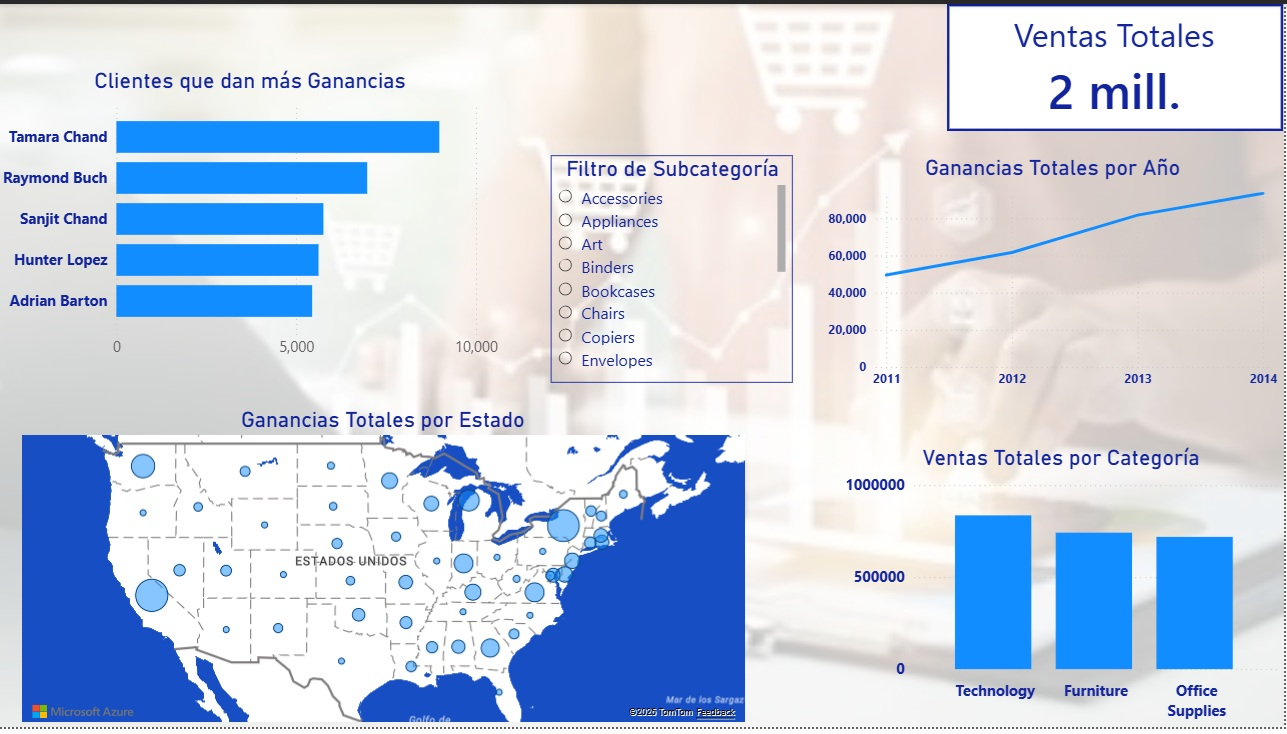

This screenshot's page, from the dashboard's own definition file:
{"tool":"powerbi","page":{"name":"EN USA","canvas":[1280,720],"ordinal":1},"visuals":[{"type":"cardVisual","fields":{"Data":["Sum(SuperStoreOrders.sales)"]},"box":[945.1,0,334.6,126.4],"z":0},{"type":"clusteredColumnChart","title":"Ventas Totales por Categoría","fields":{"Category":["SuperStoreOrders.category"],"Y":["Sum(SuperStoreOrders.sales)"]},"box":[838.8,439,440.8,282],"z":1000},{"type":"lineChart","title":"Ganancias Totales por Año","fields":{"Category":["SuperStoreOrders.order_date.Variación.Jerarquía de fechas.Año","SuperStoreOrders.order_date.Variación.Jerarquía de fechas.Trimestre","SuperStoreOrders.order_date.Variación.Jerarquía de fechas.Mes","SuperStoreOrders.order_date.Variación.Jerarquía de fechas.Día"],"Y":["Sum(SuperStoreOrders.profit)"]},"box":[822.8,149.9,456.9,240.9],"z":2000},{"type":"azureMap","title":"Ganancias Totales por Estado","fields":{"Size":["Sum(SuperStoreOrders.profit)"],"Category":["SuperStoreOrders.state"]},"box":[19.7,400.2,728.7,319.5],"z":3000},{"type":"clusteredBarChart","title":"Clientes que dan más Ganancias ","fields":{"Category":["SuperStoreOrders.customer_name"],"Y":["Sum(SuperStoreOrders.profit)"]},"box":[0,63.4,503.8,298.6],"z":4000},{"type":"listSlicer","title":"Filtro de Subcategoría","fields":{"Values":["SuperStoreOrders.sub_category"]},"box":[551.5,149.9,240.9,226.7],"z":5000}]}

Visuals, with their boxes in screenshot pixels (x1, y1, x2, y2), scaled from the page's 1280x720 canvas onto the 1287x734 screenshot:
cardVisual - Sum(SuperStoreOrders.sales): bbox=(950, 0, 1286, 129)
"Ventas Totales por Categoría" clusteredColumnChart: bbox=(843, 448, 1286, 733)
"Ganancias Totales por Año" lineChart: bbox=(827, 153, 1286, 398)
"Ganancias Totales por Estado" azureMap: bbox=(20, 408, 752, 733)
"Clientes que dan más Ganancias " clusteredBarChart: bbox=(0, 65, 507, 369)
"Filtro de Subcategoría" listSlicer: bbox=(555, 153, 797, 384)
